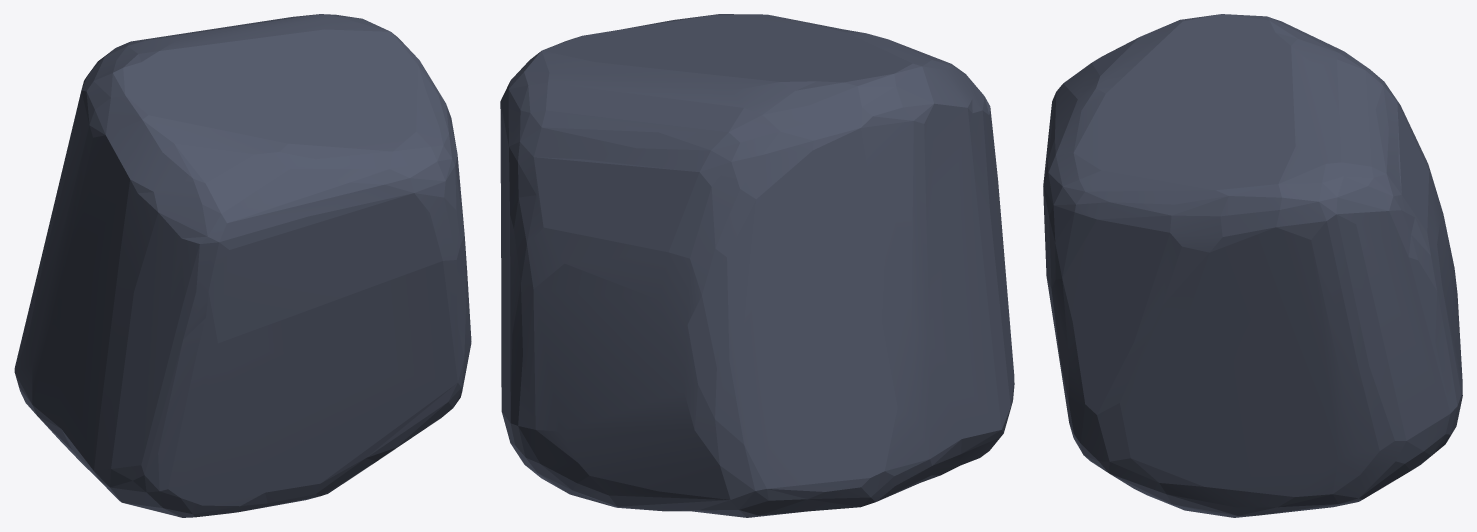
The model's file is Rock.fbx.
The picture shows the model from 3 angles, left to right: view 1: azimuth 30°, elevation 25°; view 2: azimuth 150°, elevation 25°; view 3: azimuth 270°, elevation 25°; orthographic projection. The views are drawn at different scales.
Visible parts, largest first — view 1: Cube.103; view 2: Cube.103; view 3: Cube.103.
Part boxes in pixels (bbox=[...]): Cube.103: bbox=[14, 14, 471, 517]; Cube.103: bbox=[500, 14, 1014, 517]; Cube.103: bbox=[1043, 14, 1462, 517].
Size of the model in its own units: 1145 by 1159 by 1124.
